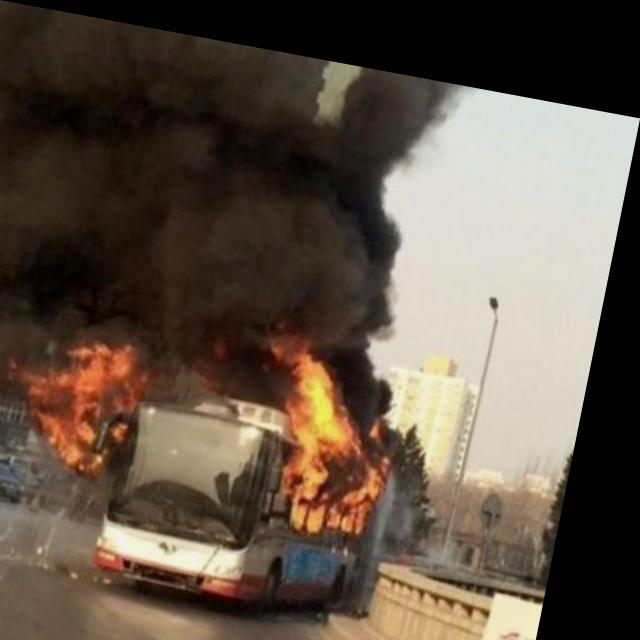Fire: (262, 317, 432, 536), (17, 312, 172, 474)
